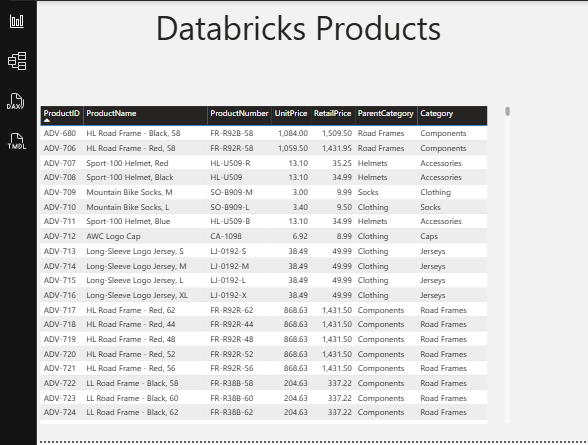

What the dashboard file says about the page in this screenshot:
{"tool":"powerbi","page":{"name":"Products","canvas":[1280,720],"ordinal":0},"visuals":[{"type":"tableEx","fields":{"Values":["Products.ProductID","Products.ProductName","Products.ProductNumber","Products.UnitPrice","Products.RetailPrice","Products.ParentCategory","Products.Category"]},"box":[0,167.3,779,529.4],"z":0},{"type":"textbox","box":[0,0,854.4,94.6],"z":1000}]}

Visuals, with their boxes on the page's 1280x720 design canvas (x1, y1, x2, y2). These are canvas units, not pixel positions in the 588x445 screenshot, which may show the page scaled, cropped or inside an application window:
tableEx - Products.ProductID x Products.ProductName: 0, 167, 779, 697
textbox: 0, 0, 854, 95
